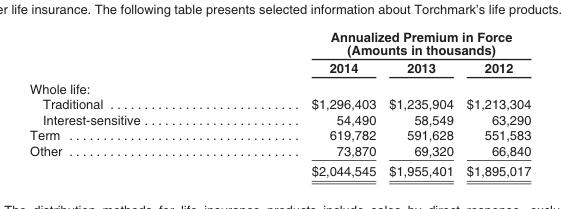table: (29, 28, 530, 178)
table column: (29, 28, 225, 178), (225, 28, 381, 178), (381, 28, 459, 178), (459, 28, 530, 178)
table column header: (29, 28, 530, 77)
table projected row header: (29, 77, 530, 95)
table row: (29, 28, 530, 58), (29, 58, 530, 77), (29, 77, 530, 95), (29, 142, 530, 160), (29, 160, 530, 178), (29, 95, 530, 111), (29, 126, 530, 142), (29, 111, 530, 126)
table spanning cell: (225, 28, 530, 58)
